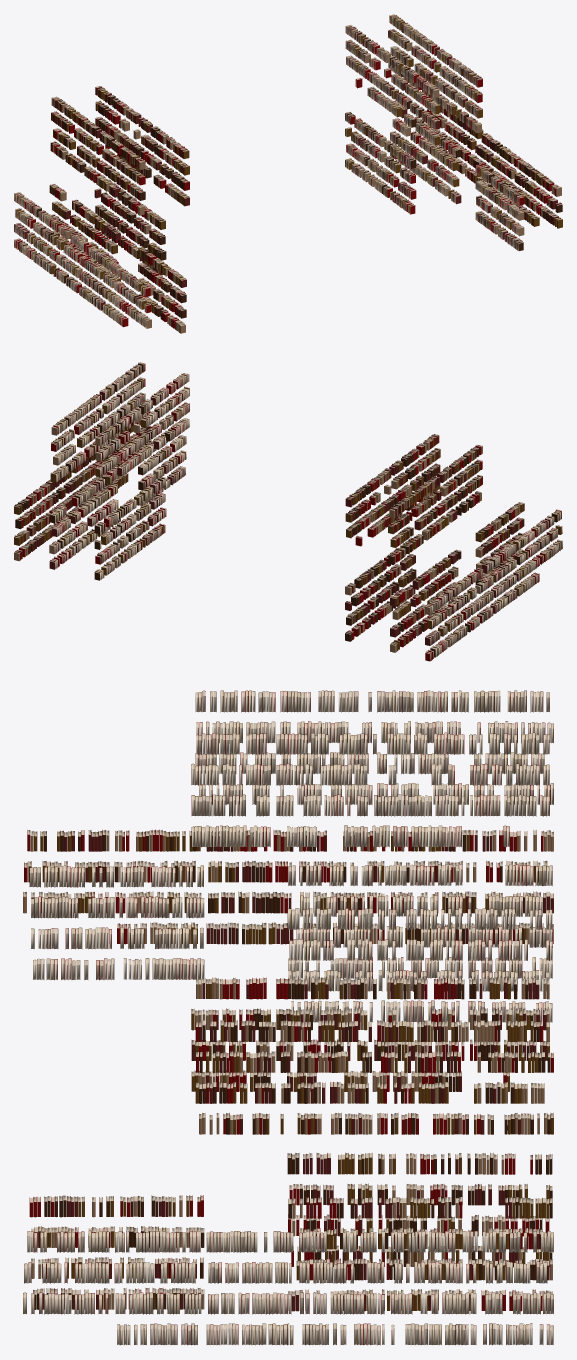
Rendered from books5.glb.
3 views of the same model, one above another, from view 1: azimuth 30°, elevation 25°; view 2: azimuth 150°, elevation 25°; view 3: azimuth 270°, elevation 25° (orthographic). The views are drawn at different scales.
Parts seen in each view (by area): view 1: books_wall_back, books10, books8, books.001, books6, books_side_4; view 2: books_wall_back, books10, books8, books.001, books6, books_side_4; view 3: books_wall_back, books10, books8, books.001, books6, books_side_4.
Part boxes in pixels (x1,y1,x2,y2): books_wall_back: (14, 100, 562, 328); books10: (50, 14, 482, 215); books8: (95, 25, 440, 206); books.001: (94, 112, 416, 275); books6: (49, 101, 461, 281); books_side_4: (138, 164, 524, 333); books_wall_back: (14, 410, 562, 661); books10: (50, 362, 482, 564); books8: (95, 373, 440, 546); books.001: (94, 476, 416, 641); books6: (49, 466, 461, 652); books_side_4: (138, 419, 524, 585); books_wall_back: (23, 829, 553, 1345); books10: (195, 690, 553, 1134); books8: (191, 732, 549, 1091); books.001: (287, 908, 552, 1267); books6: (288, 864, 552, 1311); books_side_4: (29, 865, 204, 1309).
Bounding box in the file's own units: 25.99 × 8.49 × 14.34.
1 material, 1 textured.
